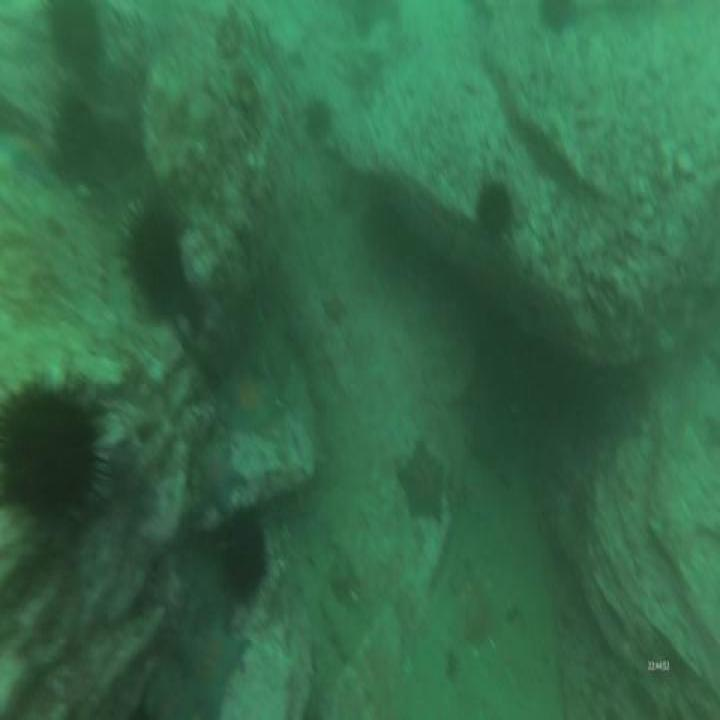echinus: (0, 369, 108, 538), (116, 197, 192, 320), (220, 501, 272, 626), (53, 100, 106, 202), (51, 0, 102, 71), (475, 174, 518, 251), (536, 0, 581, 34), (302, 98, 332, 144)
starfish: (222, 350, 287, 439), (397, 437, 453, 530)
